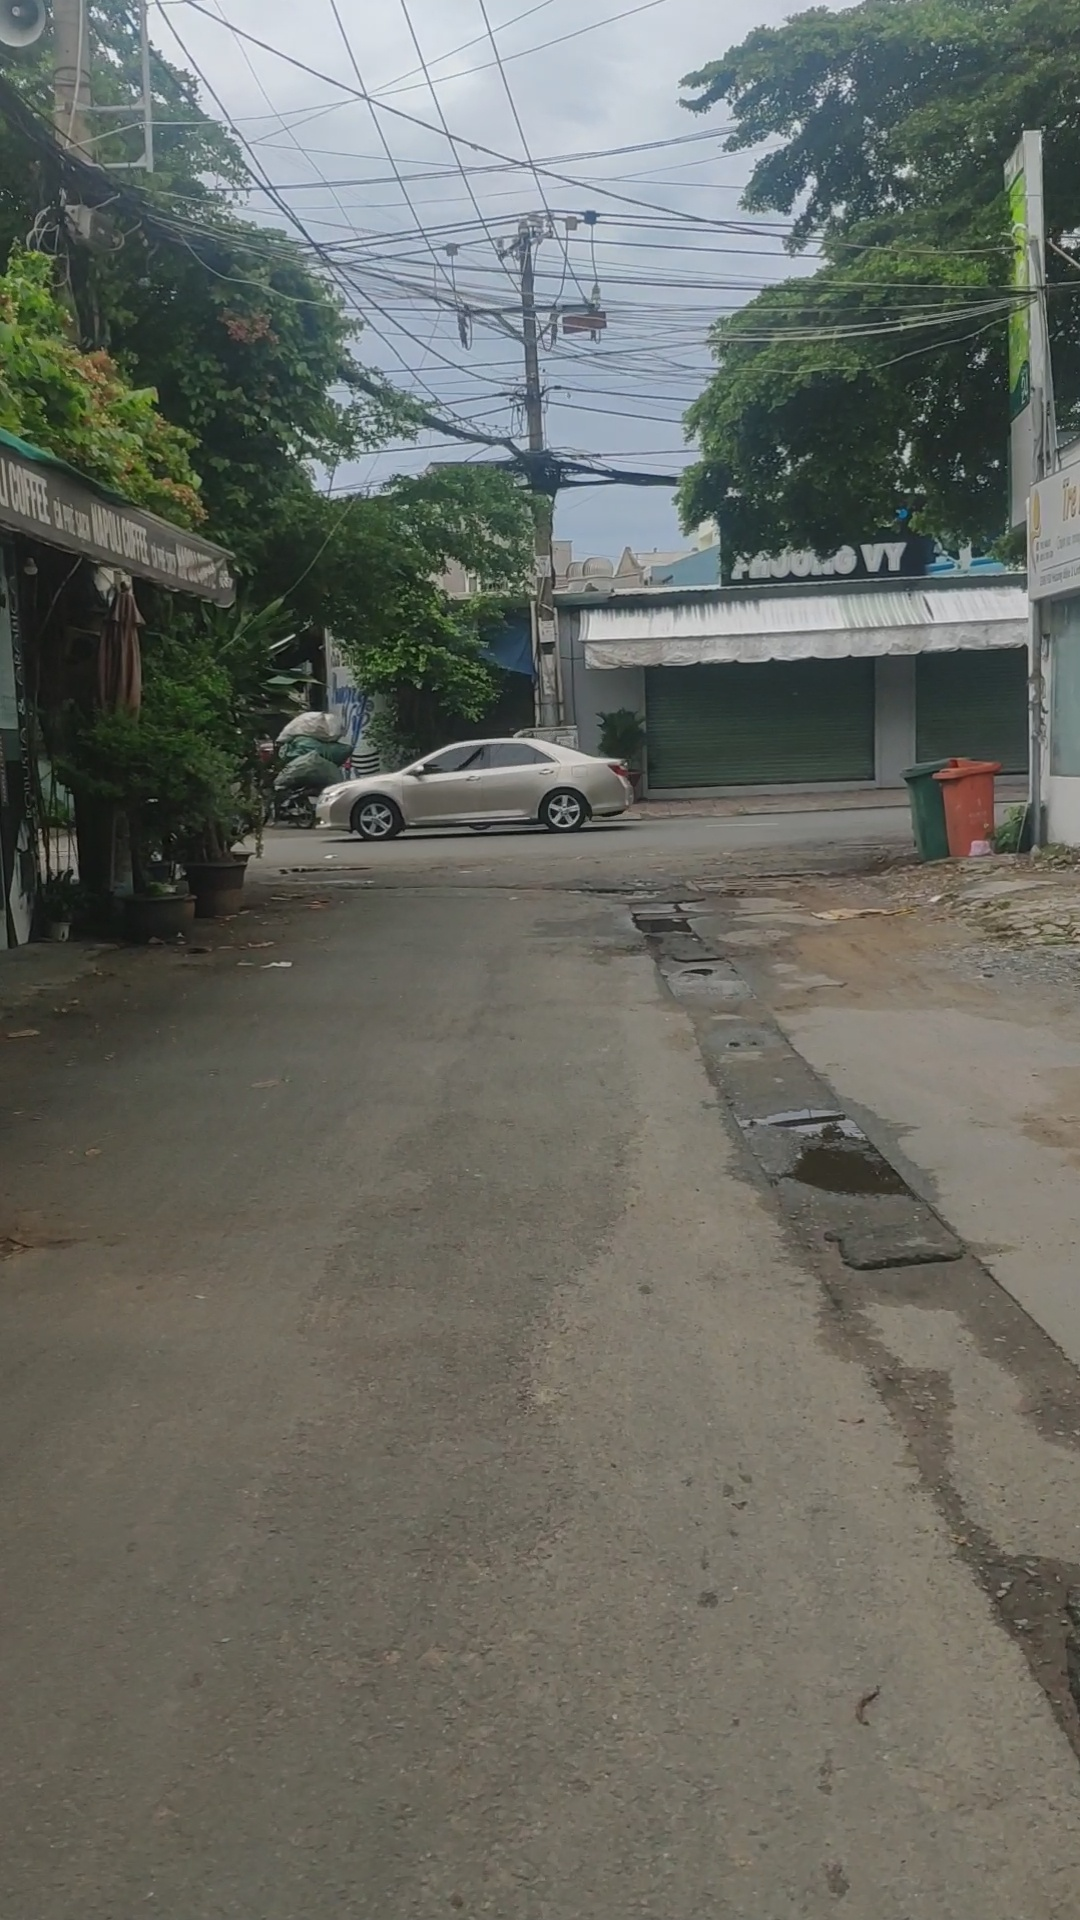hole: (731, 1102, 927, 1212), (702, 1015, 800, 1062), (654, 944, 738, 984), (626, 899, 709, 938), (571, 886, 674, 898)
